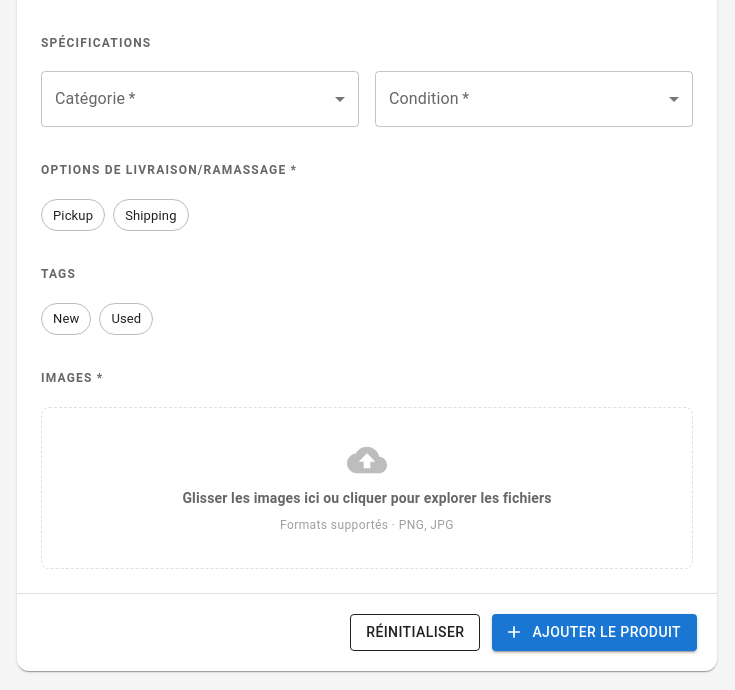
Test case: AddItemForm Component › Validation › shows errors when submitting empty form
(page scrolled)
Click the button "Ajouter le produit" at point(595, 632), box [492,614,697,651]
(page scrolled)
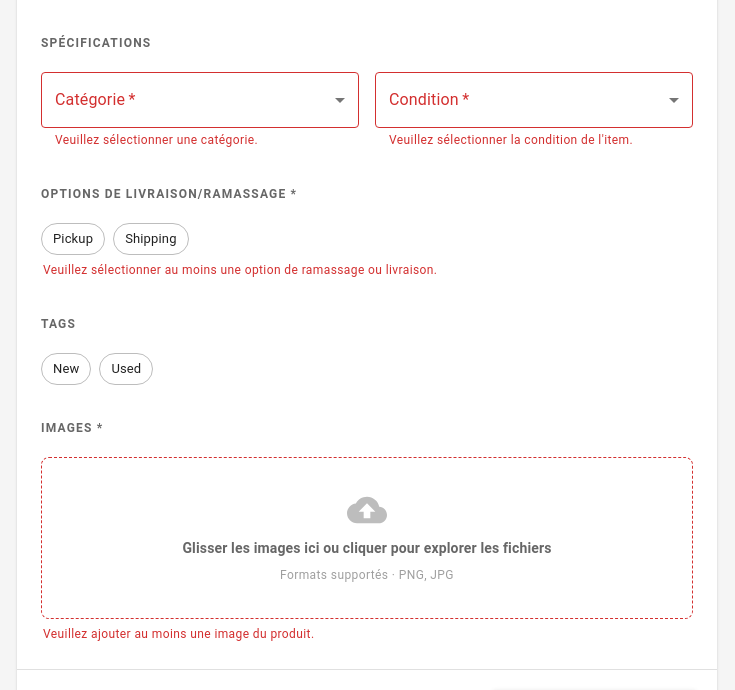
Result: the text "Veuillez sélectionner une catégorie." is shown at [55,133,258,147]
Result: the text "Veuillez sélectionner la condition de l'item." is shown at [389,133,633,147]
Result: the text "Veuillez sélectionner au moins une option de ramassage ou livraison." is shown at [43,263,437,277]
